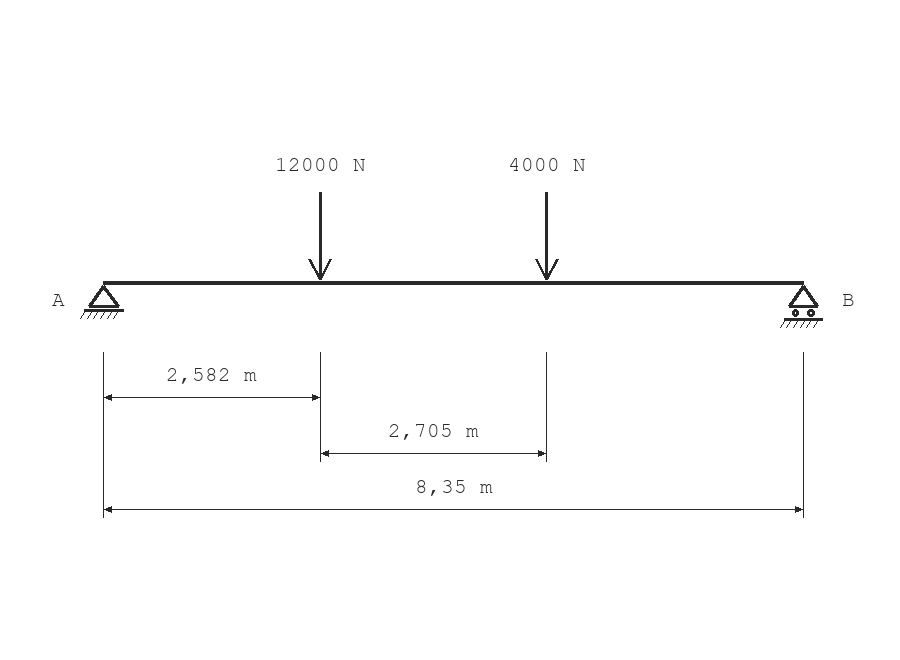pin_support: (80, 285, 124, 319)
point_load: (308, 192, 332, 280), (535, 192, 559, 280)
roller_support: (780, 285, 823, 328)
